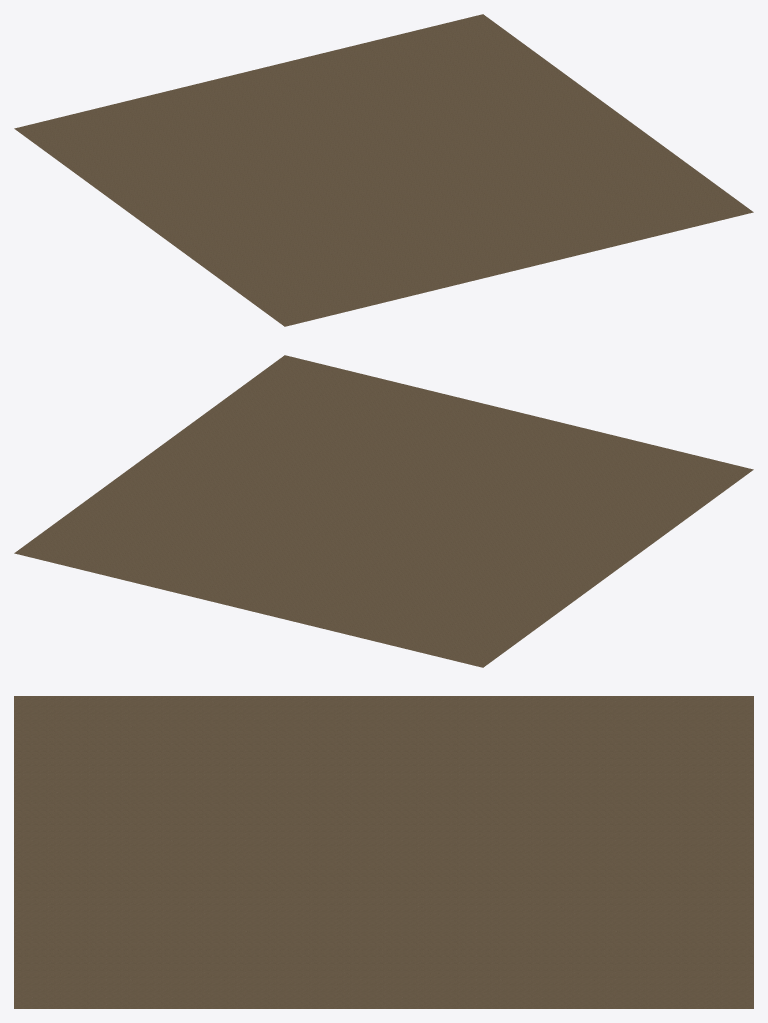
Rendered from ground.glb.
3 views of the same model, one above another, from view 1: azimuth 30°, elevation 25°; view 2: azimuth 150°, elevation 25°; view 3: azimuth 270°, elevation 25° (orthographic). The views are drawn at different scales.
Bounding box in the file's own units: 180 × 0 × 180.
1 material, 1 textured.
